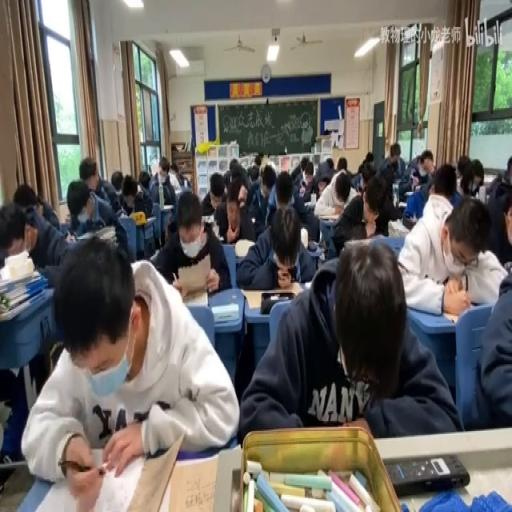calculator: (166, 451, 222, 512), (240, 286, 290, 308), (210, 302, 238, 322), (234, 236, 256, 258), (386, 216, 408, 238), (181, 286, 207, 304), (382, 235, 405, 253), (94, 224, 116, 242), (442, 308, 466, 322), (342, 238, 368, 246), (318, 212, 340, 220), (303, 199, 317, 209), (202, 215, 214, 226), (302, 280, 312, 289), (404, 190, 414, 198), (160, 204, 173, 210), (174, 186, 182, 195), (64, 212, 70, 222), (398, 199, 406, 206)
paper: (22, 233, 236, 489), (237, 240, 456, 441), (396, 184, 506, 314), (150, 190, 228, 294), (237, 199, 317, 290), (332, 172, 396, 256), (64, 176, 126, 258), (0, 195, 65, 273), (150, 155, 180, 208), (402, 145, 433, 196), (201, 169, 227, 219), (130, 180, 154, 230), (486, 154, 511, 196), (430, 164, 457, 198), (382, 142, 404, 182), (312, 156, 334, 195), (274, 169, 294, 208), (13, 182, 38, 212), (468, 158, 484, 193), (78, 156, 98, 182), (356, 161, 374, 189), (110, 168, 124, 195), (261, 155, 277, 178), (336, 180, 350, 204), (229, 158, 243, 180), (246, 165, 260, 186), (456, 155, 470, 176), (172, 165, 185, 186), (122, 185, 137, 203), (138, 170, 150, 190), (290, 164, 302, 184), (336, 155, 347, 171), (304, 168, 314, 185), (299, 155, 309, 171), (364, 150, 373, 164), (254, 154, 262, 168), (429, 180, 435, 194)
person: (386, 452, 470, 494), (317, 237, 329, 259), (285, 263, 297, 280), (308, 239, 318, 250)
